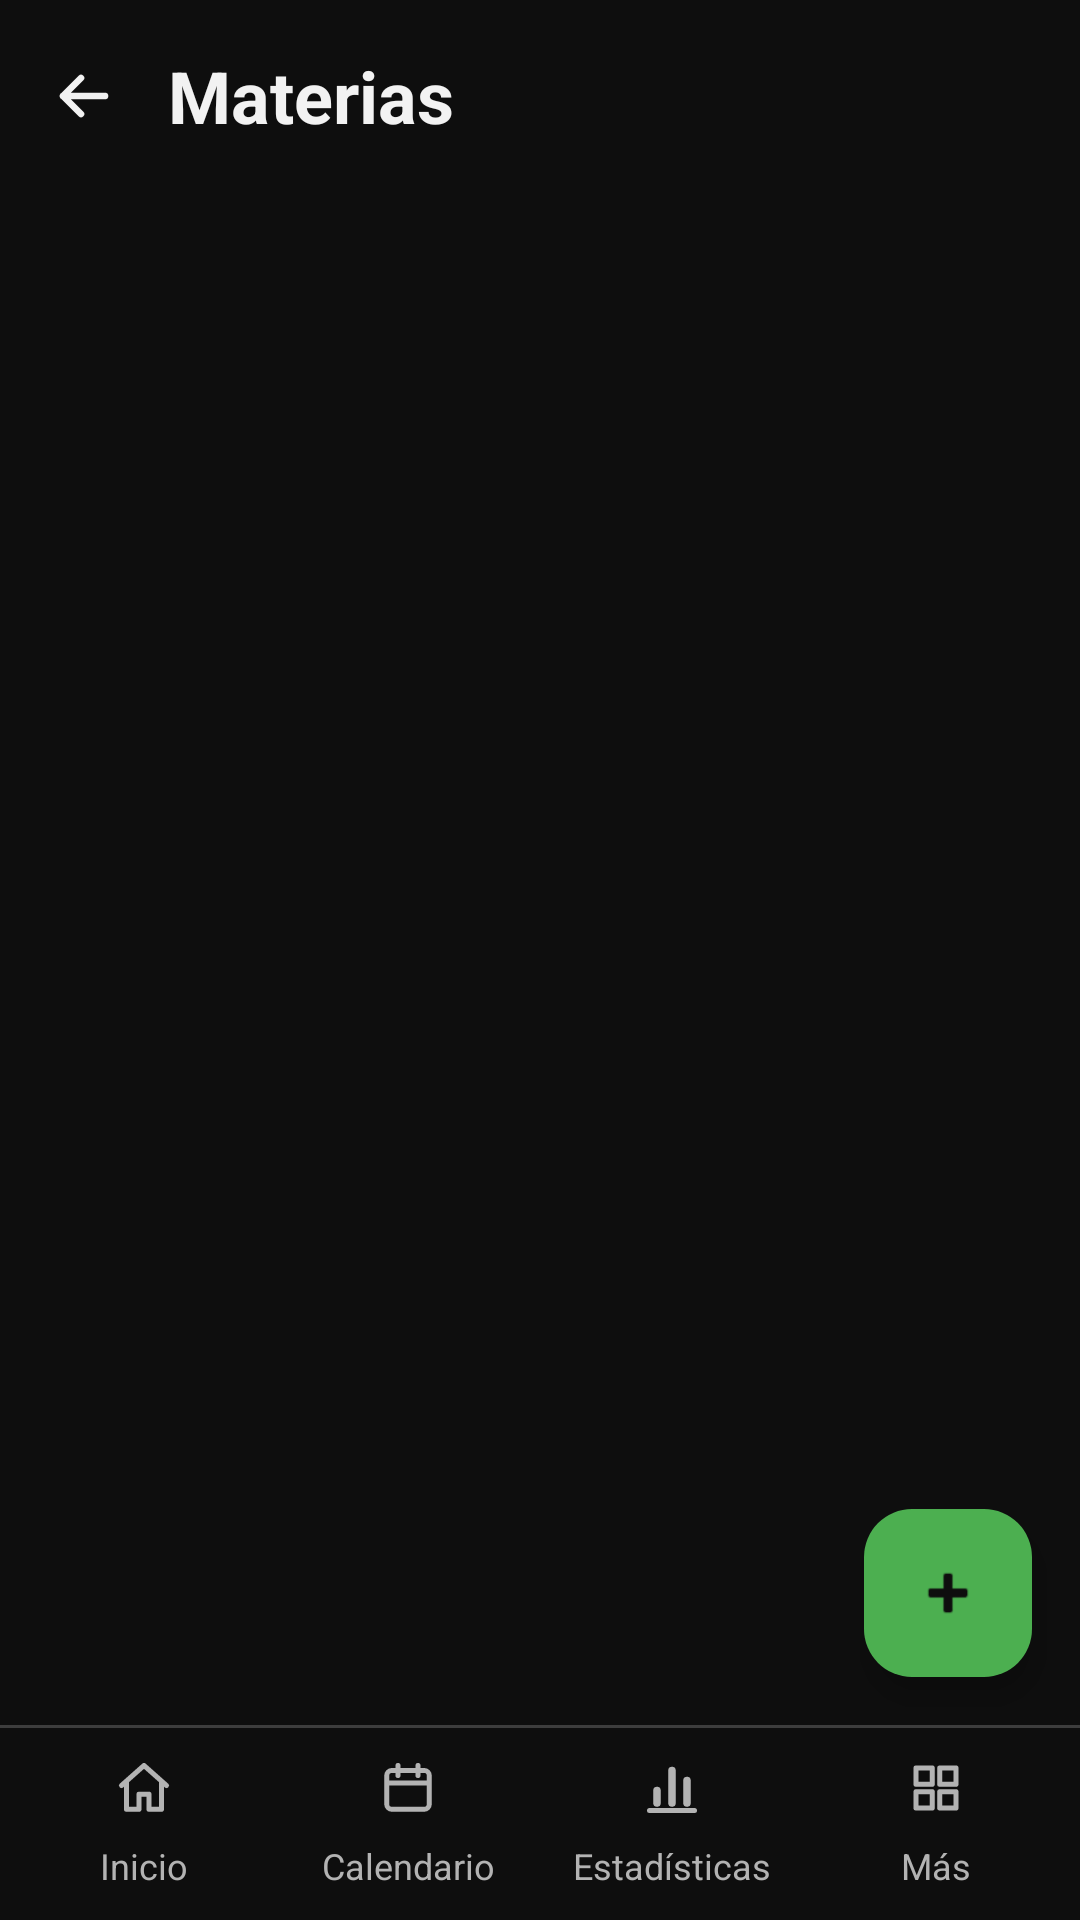

Screen size 1080 × 1920. Icon name, then its center in pixels as [x,y]:
Agregar materia: [948,1593]
Volver: [84,96]
